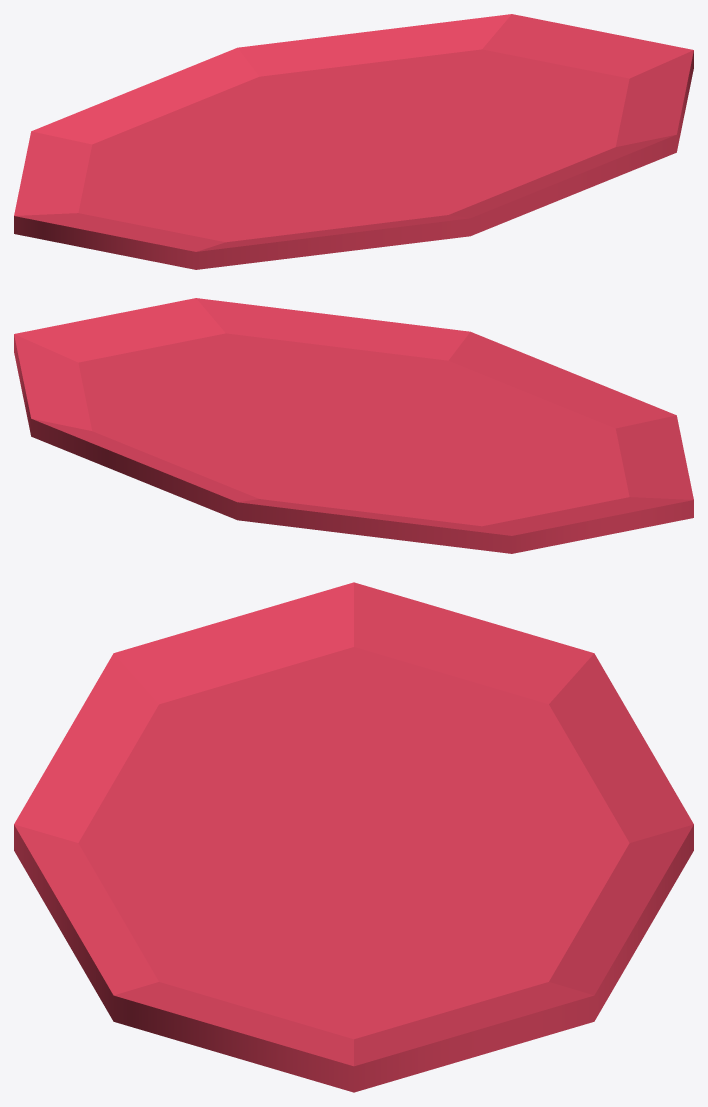
File: Itr_Obj_dish3_03.FBX
3 views of the same model, one above another, from view 1: azimuth 30°, elevation 25°; view 2: azimuth 150°, elevation 25°; view 3: azimuth 270°, elevation 25° (orthographic). The views are drawn at different scales.
Parts seen in each view (by area): view 1: Itr_Obj_dish3_03; view 2: Itr_Obj_dish3_03; view 3: Itr_Obj_dish3_03.
Boxes of the visible parts, <box> form: Itr_Obj_dish3_03: <box>14,14,693,269</box>; Itr_Obj_dish3_03: <box>14,298,693,553</box>; Itr_Obj_dish3_03: <box>14,582,693,1092</box>.
Bounding box in the file's own units: 21.8 × 0.9449 × 12.94.
